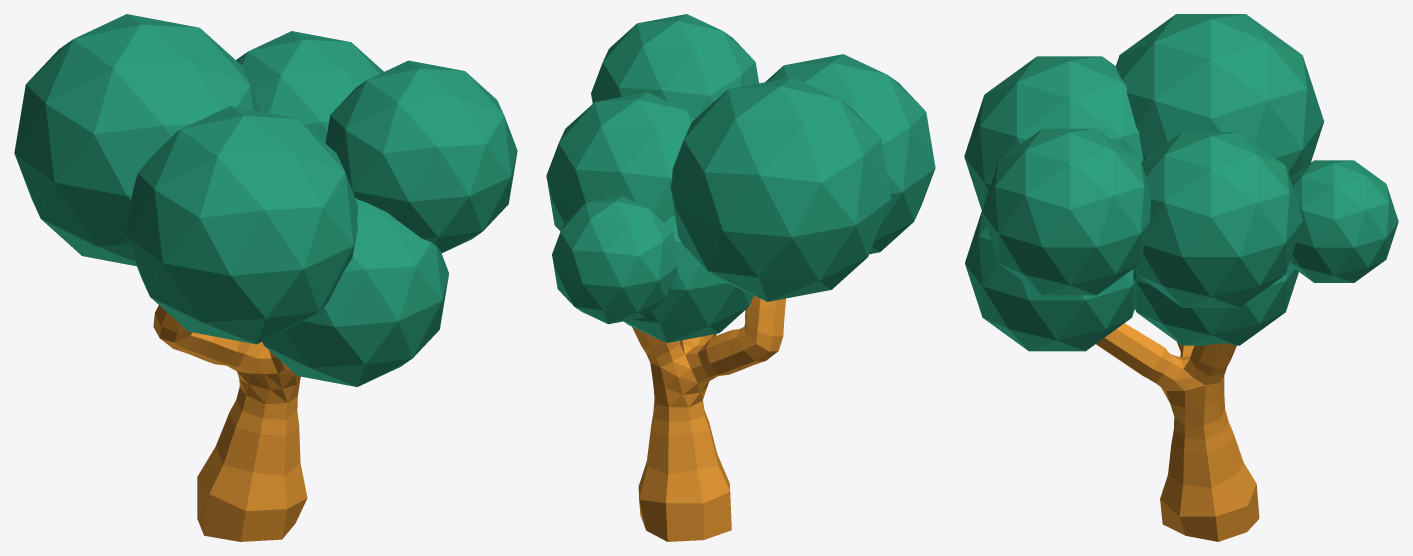
The model's file is tree3.fbx.
3 renders of one model, left to right at view 1: azimuth 30°, elevation 25°; view 2: azimuth 150°, elevation 25°; view 3: azimuth 270°, elevation 25°, orthographic. The views are drawn at different scales.
Visible parts, largest first — view 1: tree2; view 2: tree2; view 3: tree2.
Part boxes in pixels (x1,y1,x2,y2): tree2: (14,14,517,541); tree2: (546,14,935,541); tree2: (964,14,1398,541).
Bounding box in the file's own units: 673 × 868 × 748.
